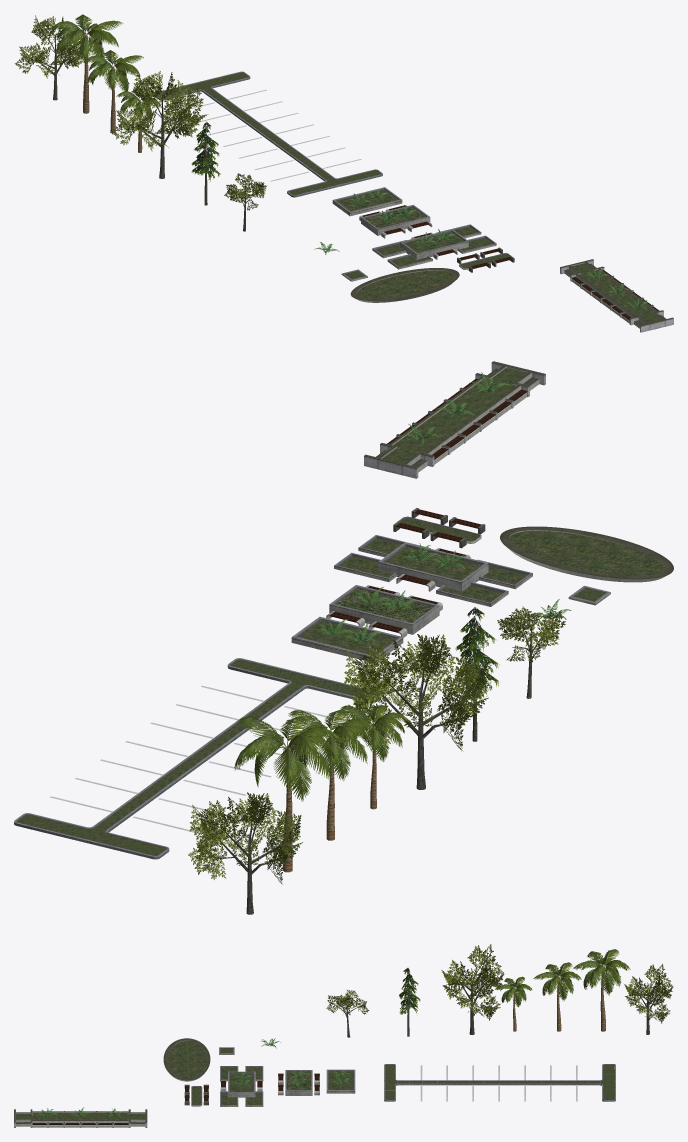
File: tree props.fbx
The picture shows the model from 3 angles, top to bottom: view 1: azimuth 30°, elevation 25°; view 2: azimuth 150°, elevation 25°; view 3: azimuth 270°, elevation 25°; orthographic projection. The views are drawn at different scales.
Parts seen in each view (by area): view 1: tree3, tt9, Park-05, tt7, tt5, Tree3, tree4, Tree2, tt6, tt11, Tree-A-02, f1 (+2 smaller); view 2: tt9, tree3, Park-05, tt7, tree4, tt5, Tree3, tt6, Tree2, tt11, f1, Tree1 (+2 smaller); view 3: tt9, tree3, Park-05, tree4, tt7, tt5, Tree3, Tree2, tt6, tt11, f1, Tree1 (+2 smaller).
Part boxes in pixels (bbox=[...]): tree3: bbox=[110, 70, 208, 178]; tt9: bbox=[156, 71, 382, 197]; Park-05: bbox=[560, 259, 673, 332]; tt7: bbox=[372, 224, 496, 269]; tt5: bbox=[350, 268, 459, 302]; Tree3: bbox=[51, 14, 123, 113]; tree4: bbox=[14, 15, 88, 100]; Tree2: bbox=[83, 50, 143, 133]; tt6: bbox=[359, 204, 432, 238]; tt11: bbox=[332, 187, 402, 216]; Tree-A-02: bbox=[191, 121, 220, 205]; f1: bbox=[224, 173, 266, 231]; tt9: bbox=[14, 658, 378, 859]; tree3: bbox=[343, 634, 488, 789]; Park-05: bbox=[364, 361, 545, 478]; tt7: bbox=[334, 535, 532, 606]; tree4: bbox=[188, 792, 302, 914]; tt5: bbox=[500, 526, 673, 582]; Tree3: bbox=[234, 716, 343, 872]; tt6: bbox=[326, 585, 442, 637]; Tree2: bbox=[288, 709, 377, 840]; tt11: bbox=[291, 616, 403, 661]; f1: bbox=[497, 606, 565, 698]; Tree1: bbox=[340, 705, 410, 809]; tt9: bbox=[384, 1064, 615, 1101]; tree3: bbox=[441, 944, 504, 1034]; Park-05: bbox=[14, 1107, 147, 1127]; tree4: bbox=[624, 963, 673, 1034]; tt7: bbox=[220, 1066, 263, 1106]; tt5: bbox=[163, 1038, 210, 1081]; Tree3: bbox=[573, 949, 630, 1031]; Tree2: bbox=[533, 962, 581, 1031]; tt6: bbox=[278, 1070, 319, 1095]; tt11: bbox=[326, 1069, 355, 1093]; f1: bbox=[326, 990, 369, 1037]; Tree1: bbox=[495, 976, 532, 1031].
Bounding box in the file's own units: 3501 × 1272 × 8912.
